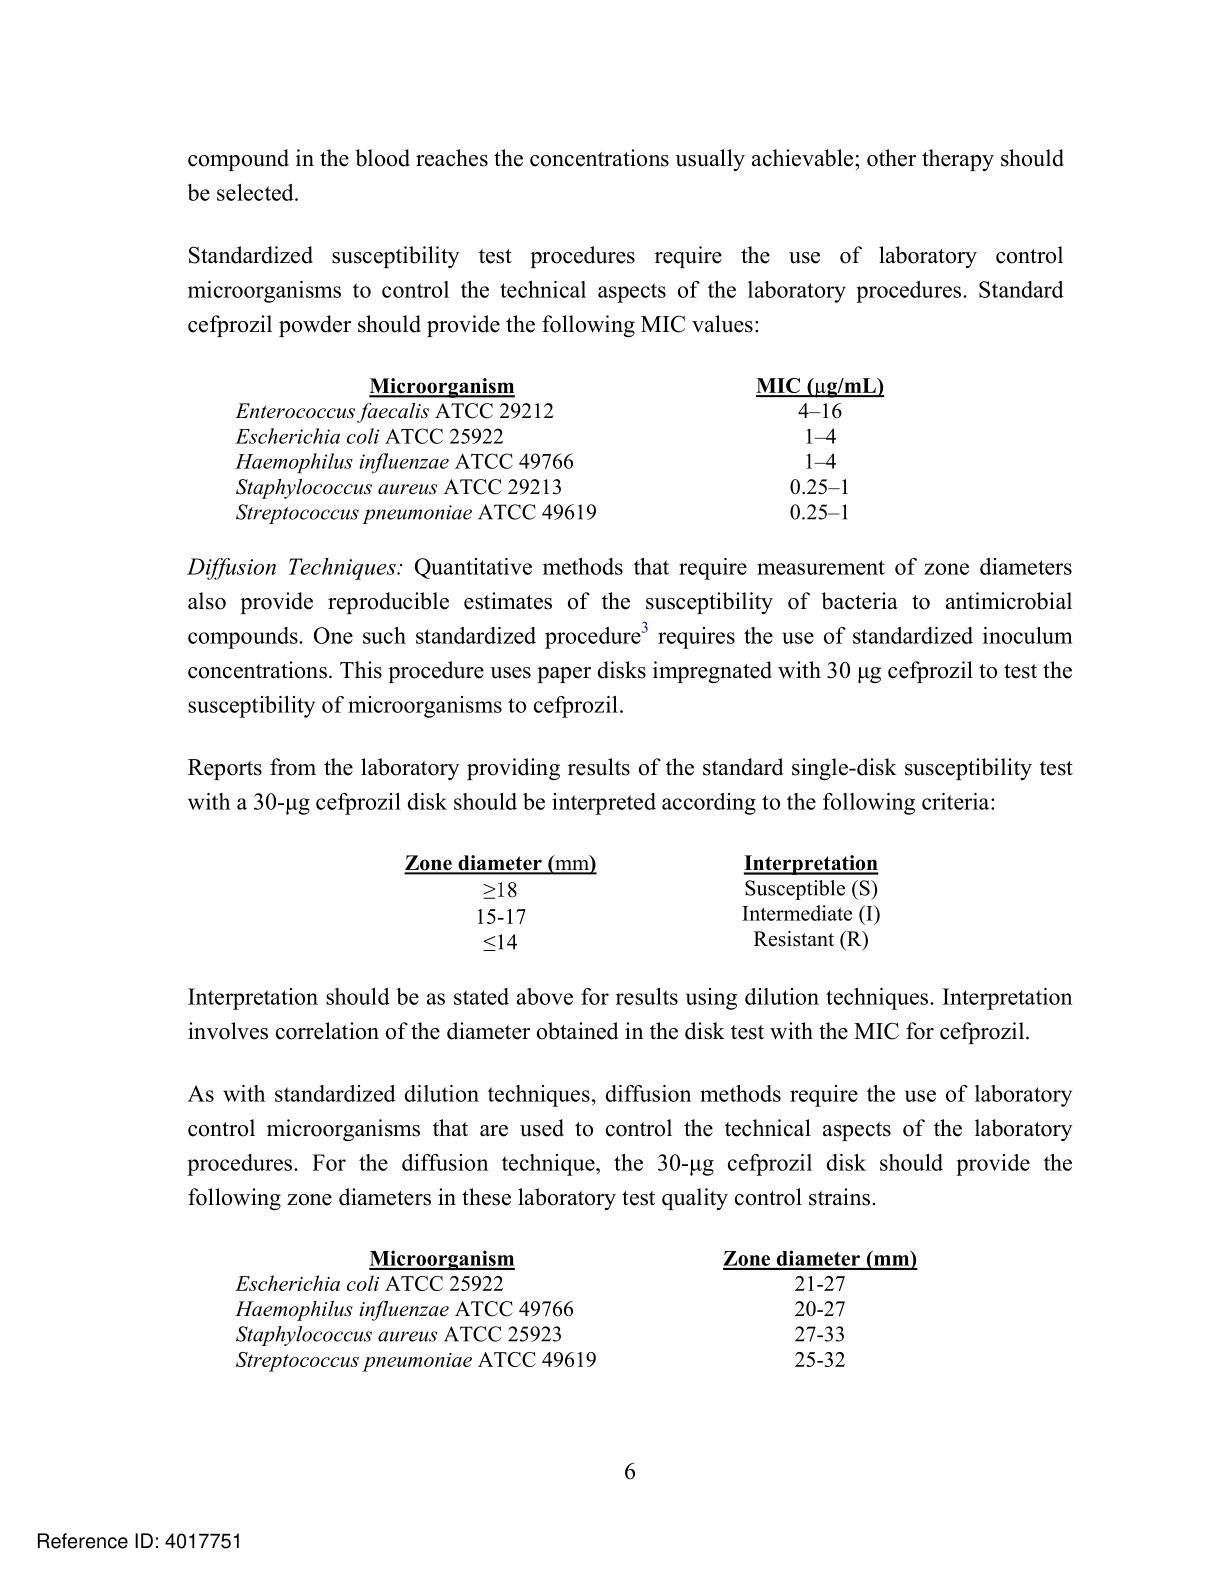nolines: (234, 377, 883, 521), (237, 1252, 921, 1371), (400, 850, 879, 951)
